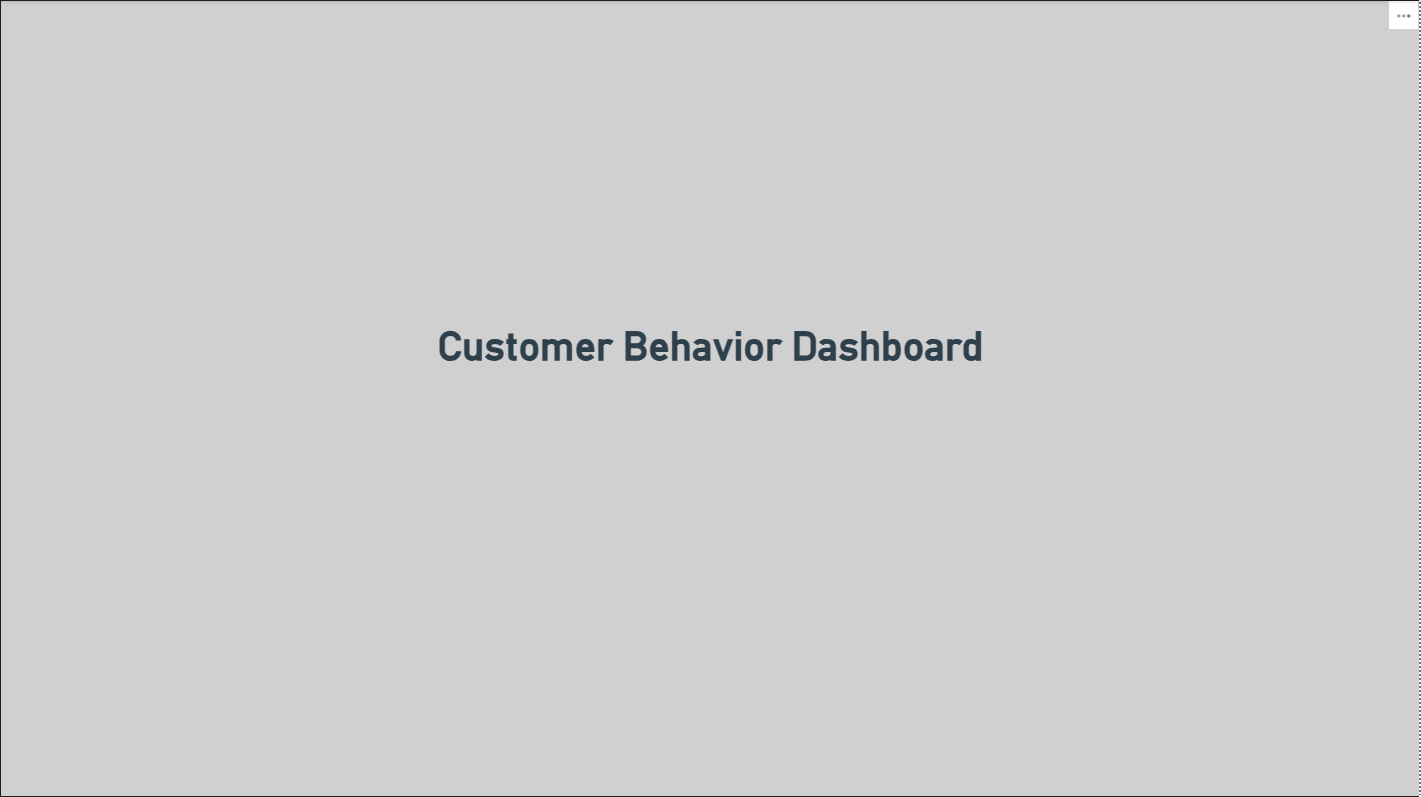

Layout of this report page (visuals, bound fields, positions):
{"tool":"powerbi","page":{"name":"Home","canvas":[1280,720],"ordinal":0},"visuals":[{"type":"textbox","box":[0,0,1280,720.3],"z":0},{"type":"textbox","title":"Customer Behavior Dashboard","box":[374.2,290.8,533.1,138.6],"z":1000}]}

Visuals, with their boxes in screenshot pixels (x1, y1, x2, y2), scaled from the page's 1280x720 canvas onto the 1421x797 screenshot:
textbox: (left=0, top=0, right=1420, bottom=796)
"Customer Behavior Dashboard" textbox: (left=415, top=322, right=1007, bottom=475)
